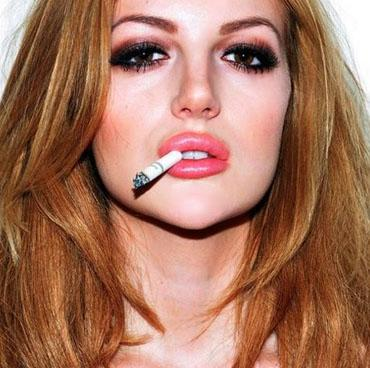smoke: (131, 148, 185, 191)
